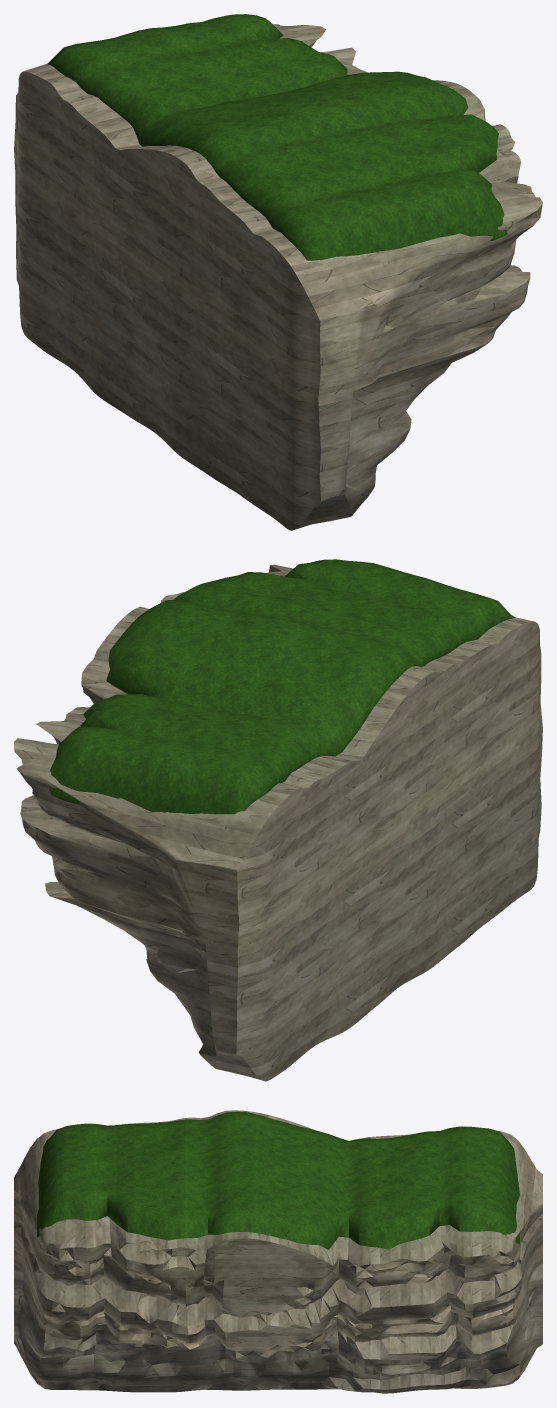
3 views of the same model, one above another, from view 1: azimuth 30°, elevation 25°; view 2: azimuth 150°, elevation 25°; view 3: azimuth 270°, elevation 25° (orthographic). The views are drawn at different scales.
Parts seen in each view (by area): view 1: Mesh_KarstCliffBody, Mesh_MossRimCrown; view 2: Mesh_KarstCliffBody, Mesh_MossRimCrown; view 3: Mesh_KarstCliffBody, Mesh_MossRimCrown.
Part boxes in pixels (<box>): Mesh_KarstCliffBody: <box>14,24,542,530</box>; Mesh_MossRimCrown: <box>47,14,507,260</box>; Mesh_KarstCliffBody: <box>14,564,542,1081</box>; Mesh_MossRimCrown: <box>49,559,515,814</box>; Mesh_KarstCliffBody: <box>14,1110,542,1393</box>; Mesh_MossRimCrown: <box>37,1111,519,1249</box>.
Bounding box in the file's own units: 8.5 × 8.5 × 15.
Materials: 2 (2 with a texture image).
